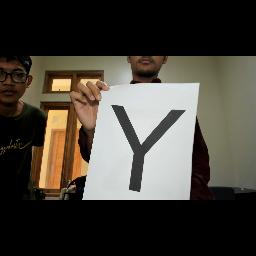y: (108, 100, 190, 194)
